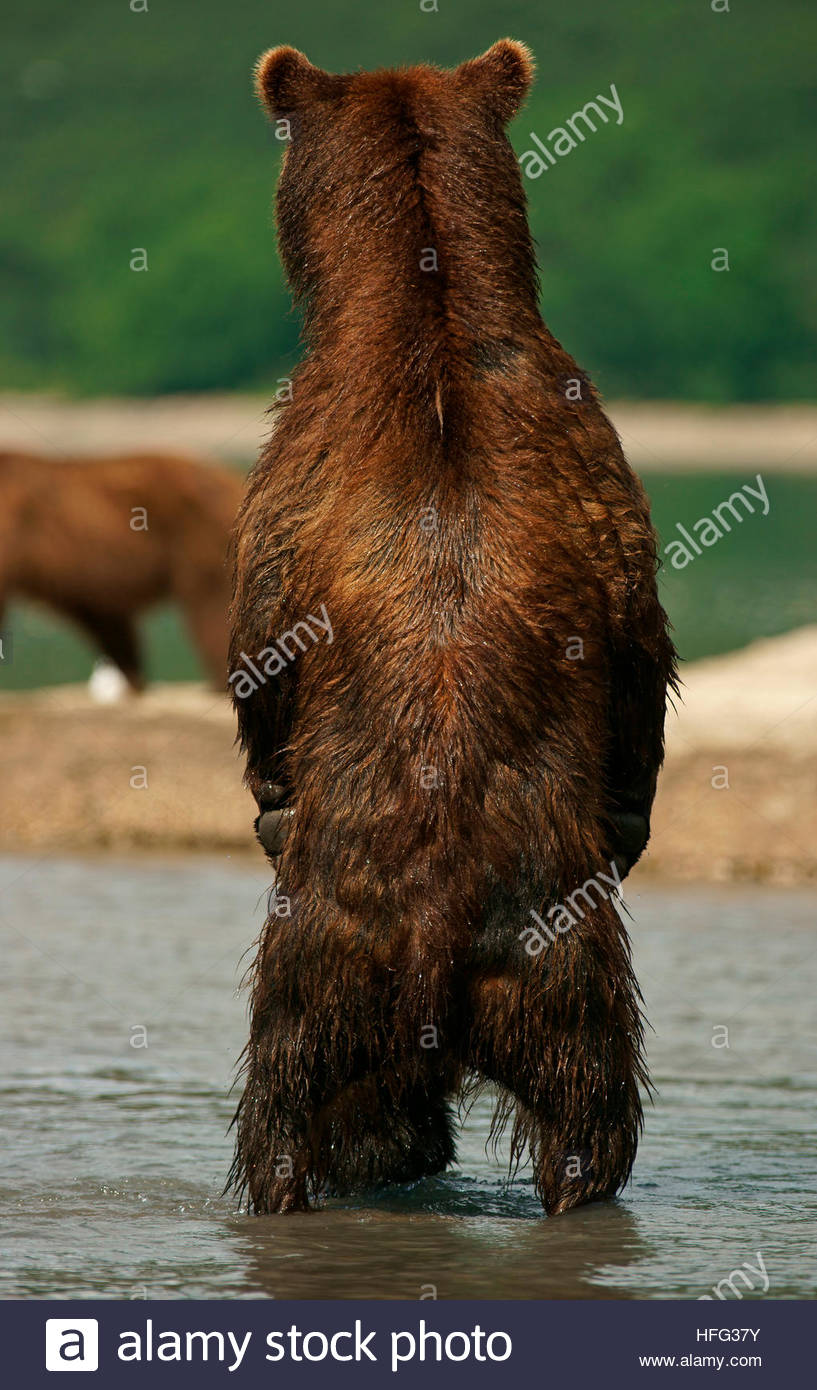bear: (212, 30, 688, 1234)
